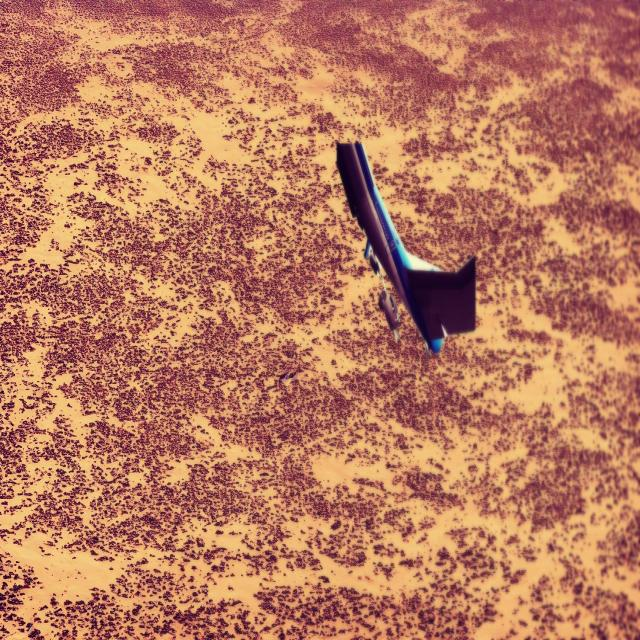airplane: (335, 138, 477, 356)
